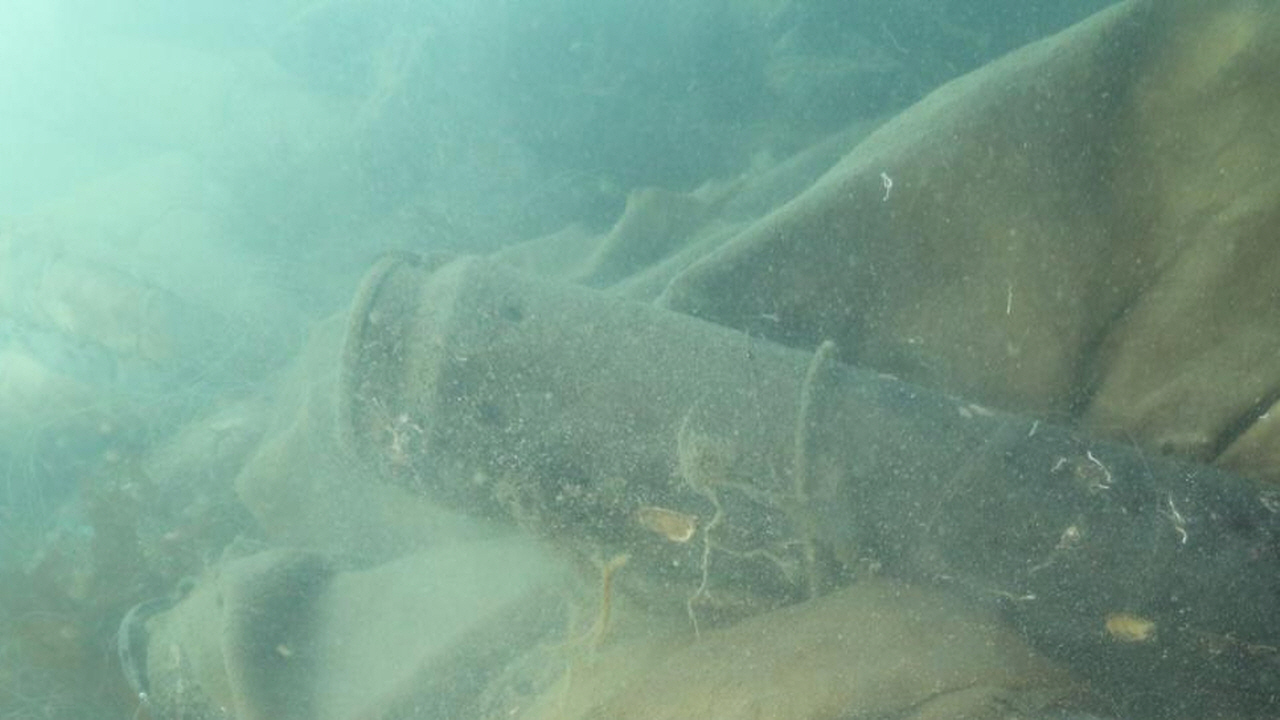eel fish trap: (339, 252, 1280, 720)
rope: (795, 338, 838, 595)
